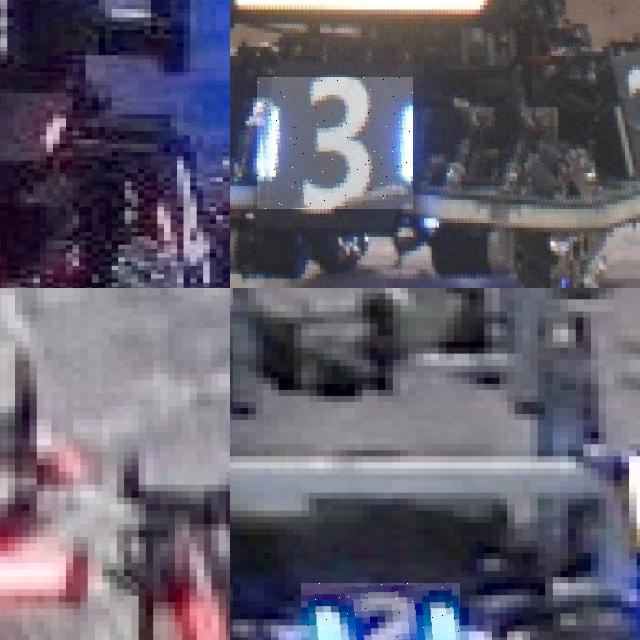B2: (301, 583, 461, 640)
B3: (257, 77, 413, 209)
